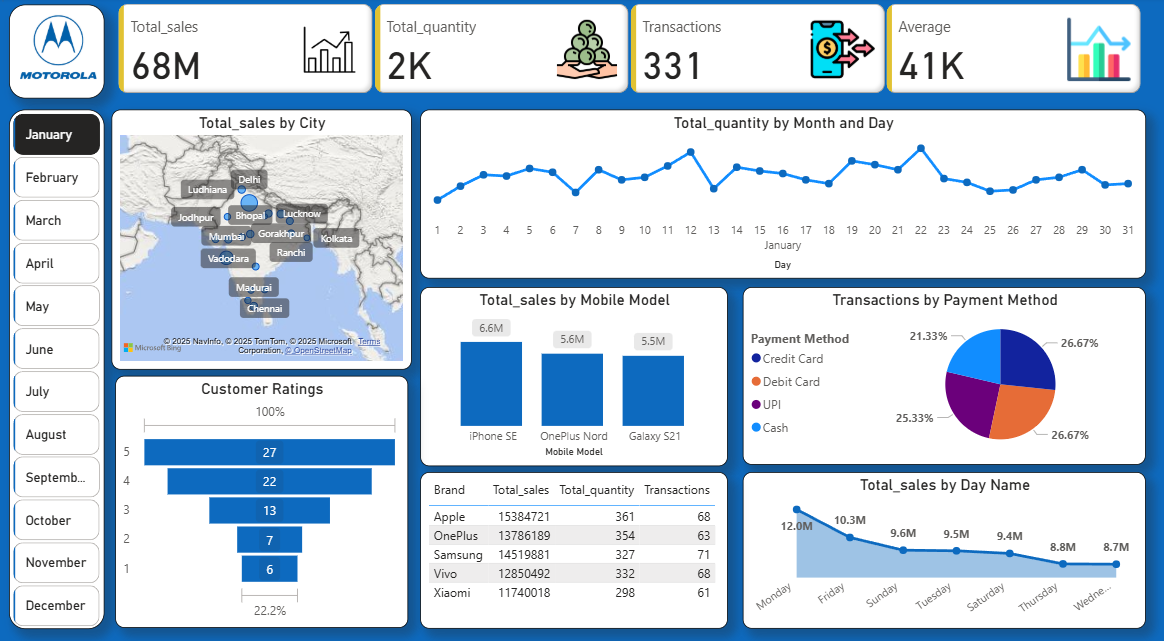

This screenshot's page, from the dashboard's own definition file:
{"tool":"powerbi","page":{"name":"Page 1","canvas":[1280,720],"ordinal":0},"visuals":[{"type":"shape","box":[11.5,8.2,104.9,103.3],"z":1500},{"type":"shape","box":[11.2,123.8,105,570],"z":2000},{"type":"advancedSlicerVisual","fields":{"Values":["Sales_Data.Date.Variation.Date Hierarchy.Month"]},"box":[11.2,123.8,105,583.8],"z":3000},{"type":"image","box":[4.9,8.2,119.7,93.4],"z":3500},{"type":"cardVisual","fields":{"Data":["Sales_Data.Total_sales","Sales_Data.Total_quantity","Sales_Data.Transactions","Sales_Data.Average"]},"box":[126.2,3.3,1132.8,108.2],"z":3501},{"type":"map","fields":{"Category":["Sales_Data.City"],"Size":["Sales_Data.Total_sales"]},"box":[123,123,329.5,285.2],"z":3502},{"type":"lineChart","fields":{"Category":["Sales_Data.Date.Variation.Date Hierarchy.Month","Sales_Data.Date.Variation.Date Hierarchy.Day"],"Y":["Sales_Data.Total_quantity"]},"box":[462.3,123,796.7,185.2],"z":3503},{"type":"actionButton","box":[0,0,144.3,8.2],"z":3504},{"type":"columnChart","fields":{"Category":["Sales_Data.Mobile Model"],"Y":["Sales_Data.Total_sales"]},"box":[462.3,318,337.7,196.7],"z":3505},{"type":"pieChart","fields":{"Category":["Sales_Data.Payment Method"],"Y":["Sales_Data.Transactions"]},"box":[816.4,318,442.6,195.1],"z":3506},{"type":"funnel","title":" Customer Ratings","fields":{"Category":["Sales_Data.Customer Ratings"],"Y":["CountNonNull(Sales_Data.Customer Ratings)"]},"box":[127.9,416.4,321.3,277],"z":3507},{"type":"areaChart","fields":{"Category":["Sales_Data.Day Name"],"Y":["Sales_Data.Total_sales"]},"box":[816.4,521.3,442.6,172.1],"z":3508},{"type":"tableEx","fields":{"Values":["Sales_Data.Brand","Sales_Data.Total_sales","Sales_Data.Total_quantity","Sales_Data.Transactions"]},"box":[462.3,521.3,337.7,172.1],"z":3509}]}

Visuals, with their boxes in screenshot pixels (x1, y1, x2, y2), scaled from the page's 1280x720 canvas onto the 1164x641 screenshot:
shape: crop(10, 7, 106, 99)
shape: crop(10, 110, 106, 618)
advancedSlicerVisual - Sales_Data.Date.Variation.Date Hierarchy.Month: crop(10, 110, 106, 630)
image: crop(4, 7, 113, 90)
cardVisual - Sales_Data.Total_sales x Sales_Data.Total_quantity: crop(115, 3, 1145, 99)
map - Sales_Data.City x Sales_Data.Total_sales: crop(112, 110, 411, 363)
lineChart - Sales_Data.Date.Variation.Date Hierarchy.Month x Sales_Data.Date.Variation.Date Hierarchy.Day: crop(420, 110, 1145, 274)
actionButton: crop(0, 0, 131, 7)
columnChart - Sales_Data.Mobile Model x Sales_Data.Total_sales: crop(420, 283, 728, 458)
pieChart - Sales_Data.Payment Method x Sales_Data.Transactions: crop(742, 283, 1145, 457)
" Customer Ratings" funnel: crop(116, 371, 408, 617)
areaChart - Sales_Data.Day Name x Sales_Data.Total_sales: crop(742, 464, 1145, 617)
tableEx - Sales_Data.Brand x Sales_Data.Total_sales: crop(420, 464, 728, 617)
